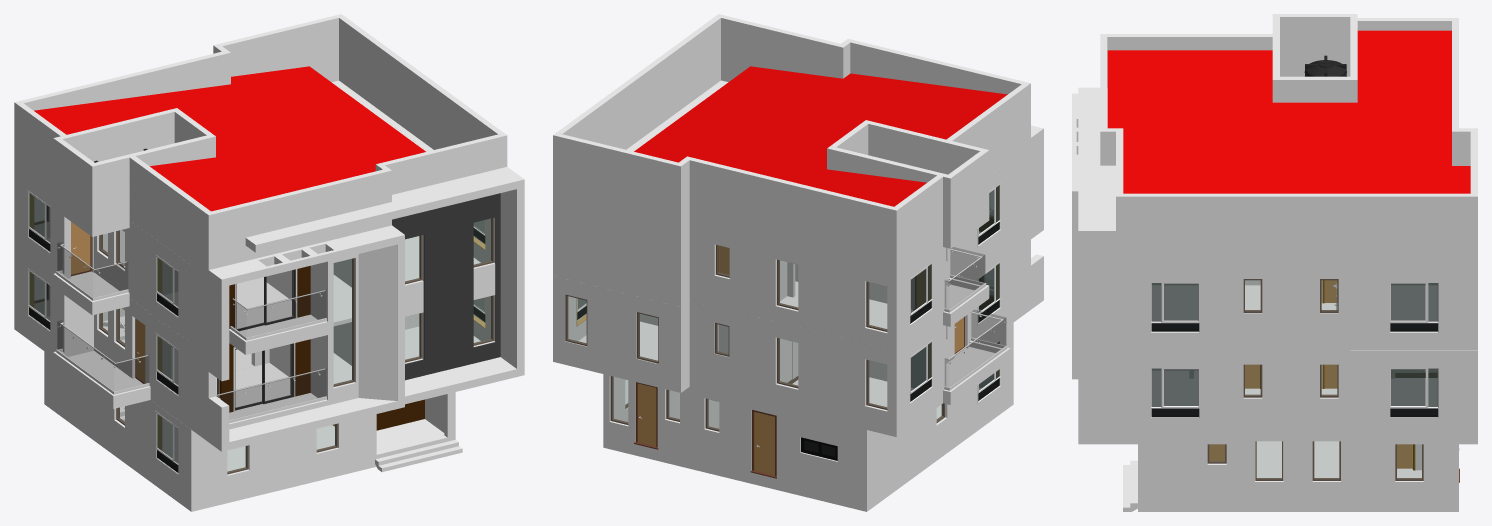
File: building_4.glb
3 views of the same model, side by side, from view 1: azimuth 30°, elevation 25°; view 2: azimuth 150°, elevation 25°; view 3: azimuth 270°, elevation 25° (orthographic). The views are drawn at different scales.
Parts seen in each view (by area): view 1: FootPrintRoof Roofs <1654541 Generic Roof - 300mm<, FamilyInstance Casework Casework 2 <1657010 Casework 2<, FamilyInstance Casework Casework 1 <1655049 Casework 1<, Wall Walls <1542127 230 DARK GREY<, Wall Walls <1652191 230<, Wall Walls <1542121 230 DARK GREY<, Wall Walls <1652209 230<, FamilyInstance Windows Aluminum_Exterior_Window_-_1_wide_x_2 (×5), Wall Walls <1652215 230<, Wall Walls <1550756 230<, Wall Walls <1652167 230<, Floor Floors <1551401 Generic 150mm< (+42 smaller); view 2: FootPrintRoof Roofs <1654541 Generic Roof - 300mm<, Wall Walls <1542109 230 DARK GREY<, Wall Walls <1546883 230<, Wall Walls <1550750 230<, Wall Walls <1652268 230<, Wall Walls <1609183 230<, Wall Walls <1611899 230<, Wall Walls <1652191 230<, Wall Walls <1652167 230<, Wall Walls <1542121 230 DARK GREY<, FamilyInstance Windows Aluminum_Exterior_Window_-_1_wide_x_2 (×7), Wall Walls <1652197 230< (+30 smaller); view 3: FootPrintRoof Roofs <1654541 Generic Roof - 300mm<, Wall Walls <1652191 230<, Wall Walls <1542115 230 DARK GREY<, FamilyInstance Casework Casework 2 <1657010 Casework 2<, Wall Walls <1546889 230 DARK GREY<, Wall Walls <1577888 230<, Wall Walls <1606578 230<, Wall Walls <1577620 230<, Wall Walls <1583614 230<, Wall Walls <1550786 230 DARK GREY<, FamilyInstance Windows Aluminum_Exterior_Window_-_1_wide_x_2 (×7), Wall Walls <1652233 230 DARK GREY< (+26 smaller).
Boxes of the visible parts, box(x1,y1,x2,y2) form: FootPrintRoof Roofs <1654541 Generic Roof - 300mm<: box(34, 66, 425, 211); FamilyInstance Casework Casework 2 <1657010 Casework 2<: box(245, 167, 524, 404); FamilyInstance Casework Casework 1 <1655049 Casework 1<: box(208, 225, 404, 451); Wall Walls <1542127 230 DARK GREY<: box(197, 393, 449, 510); Wall Walls <1652191 230<: box(339, 16, 507, 167); Wall Walls <1542121 230 DARK GREY<: box(47, 354, 197, 511); Wall Walls <1652209 230<: box(211, 169, 386, 268); FamilyInstance Windows Aluminum_Exterior_Window_-_1_wide_x_2 (×5): box(333, 218, 493, 386); Wall Walls <1652215 230<: box(129, 156, 214, 277); Wall Walls <1550756 230<: box(94, 220, 191, 342); Wall Walls <1652167 230<: box(213, 14, 344, 82); Floor Floors <1551401 Generic 150mm<: box(47, 316, 480, 419); FootPrintRoof Roofs <1654541 Generic Roof - 300mm<: box(634, 66, 1007, 206); Wall Walls <1542109 230 DARK GREY<: box(603, 374, 870, 511); Wall Walls <1546883 230<: box(689, 301, 899, 437); Wall Walls <1550750 230<: box(689, 223, 890, 349); Wall Walls <1652268 230<: box(684, 156, 893, 271); Wall Walls <1609183 230<: box(553, 198, 675, 305); Wall Walls <1611899 230<: box(553, 276, 684, 392); Wall Walls <1652191 230<: box(556, 14, 723, 149); Wall Walls <1652167 230<: box(553, 133, 684, 228); Wall Walls <1542121 230 DARK GREY<: box(870, 323, 1013, 508); FamilyInstance Windows Aluminum_Exterior_Window_-_1_wide_x_2 (×7): box(565, 259, 887, 424); Wall Walls <1652197 230<: box(721, 15, 840, 81); FootPrintRoof Roofs <1654541 Generic Roof - 300mm<: box(1107, 30, 1470, 193); Wall Walls <1652191 230<: box(1116, 193, 1470, 273); Wall Walls <1542115 230 DARK GREY<: box(1138, 441, 1451, 511); FamilyInstance Casework Casework 2 <1657010 Casework 2<: box(1078, 87, 1115, 444); Wall Walls <1546889 230 DARK GREY<: box(1243, 347, 1350, 441); Wall Walls <1577888 230<: box(1123, 350, 1243, 444); Wall Walls <1606578 230<: box(1116, 265, 1243, 350); Wall Walls <1577620 230<: box(1357, 350, 1470, 444); Wall Walls <1583614 230<: box(1350, 265, 1470, 350); Wall Walls <1550786 230 DARK GREY<: box(1243, 273, 1350, 347); FamilyInstance Windows Aluminum_Exterior_Window_-_1_wide_x_2 (×7): box(1243, 279, 1423, 480); Wall Walls <1652233 230 DARK GREY<: box(1280, 14, 1350, 76).
Bounding box in the file's own units: 13.77 × 12.45 × 12.92.
